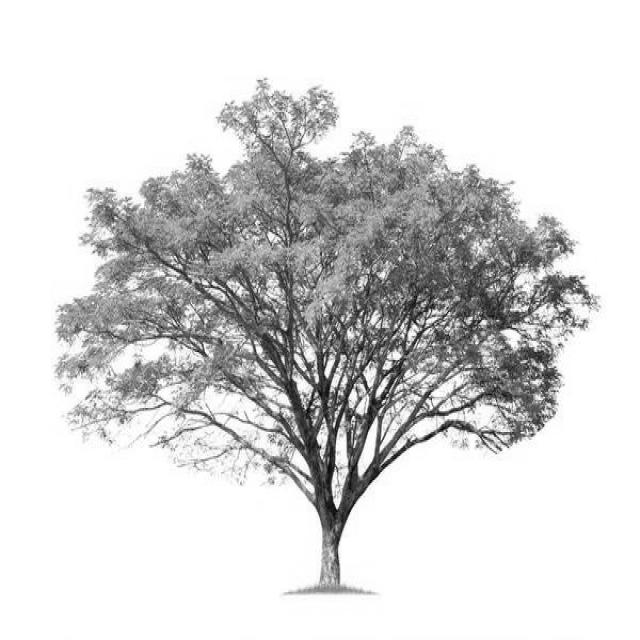Tree: (57, 80, 598, 585)
